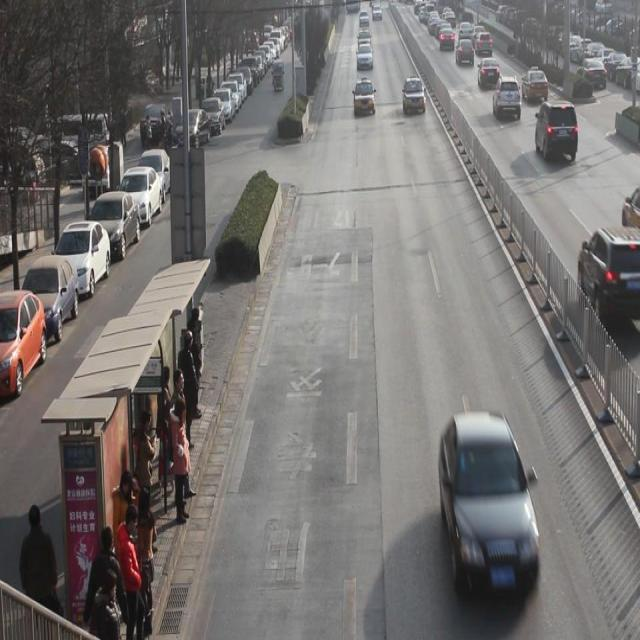car: (440, 415, 542, 598), (578, 226, 640, 324), (534, 100, 579, 164), (494, 77, 521, 123), (522, 67, 549, 106), (402, 78, 427, 118), (578, 59, 607, 90), (353, 80, 376, 118), (477, 59, 501, 92), (456, 40, 476, 69), (356, 45, 373, 72), (476, 34, 494, 57), (440, 31, 455, 56), (459, 22, 472, 42)
